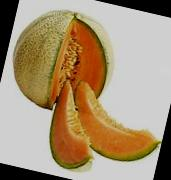Melon Ripe: (3, 0, 122, 121), (57, 77, 170, 170), (42, 77, 107, 173)
